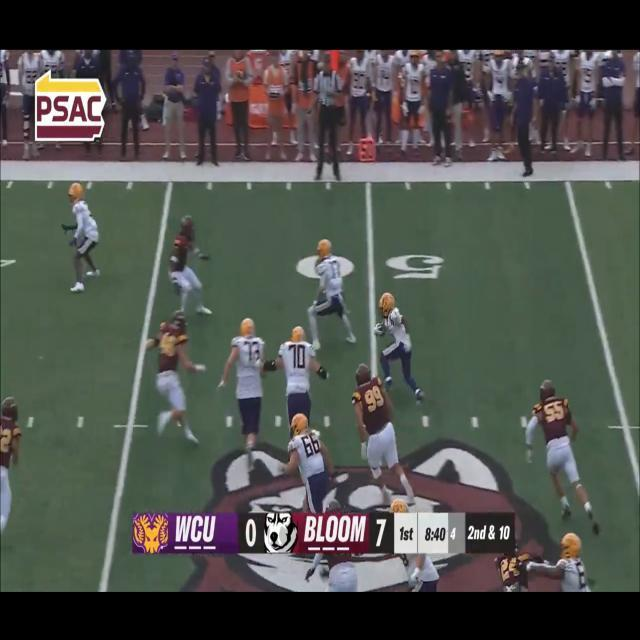football: (372, 321, 388, 336)
